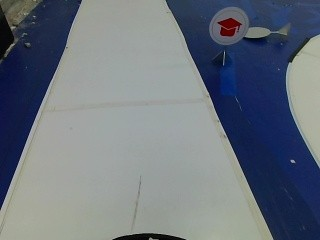school: (207, 4, 248, 47)
